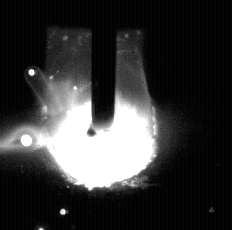arame: (93, 0, 116, 133)
poca: (49, 0, 155, 230)
